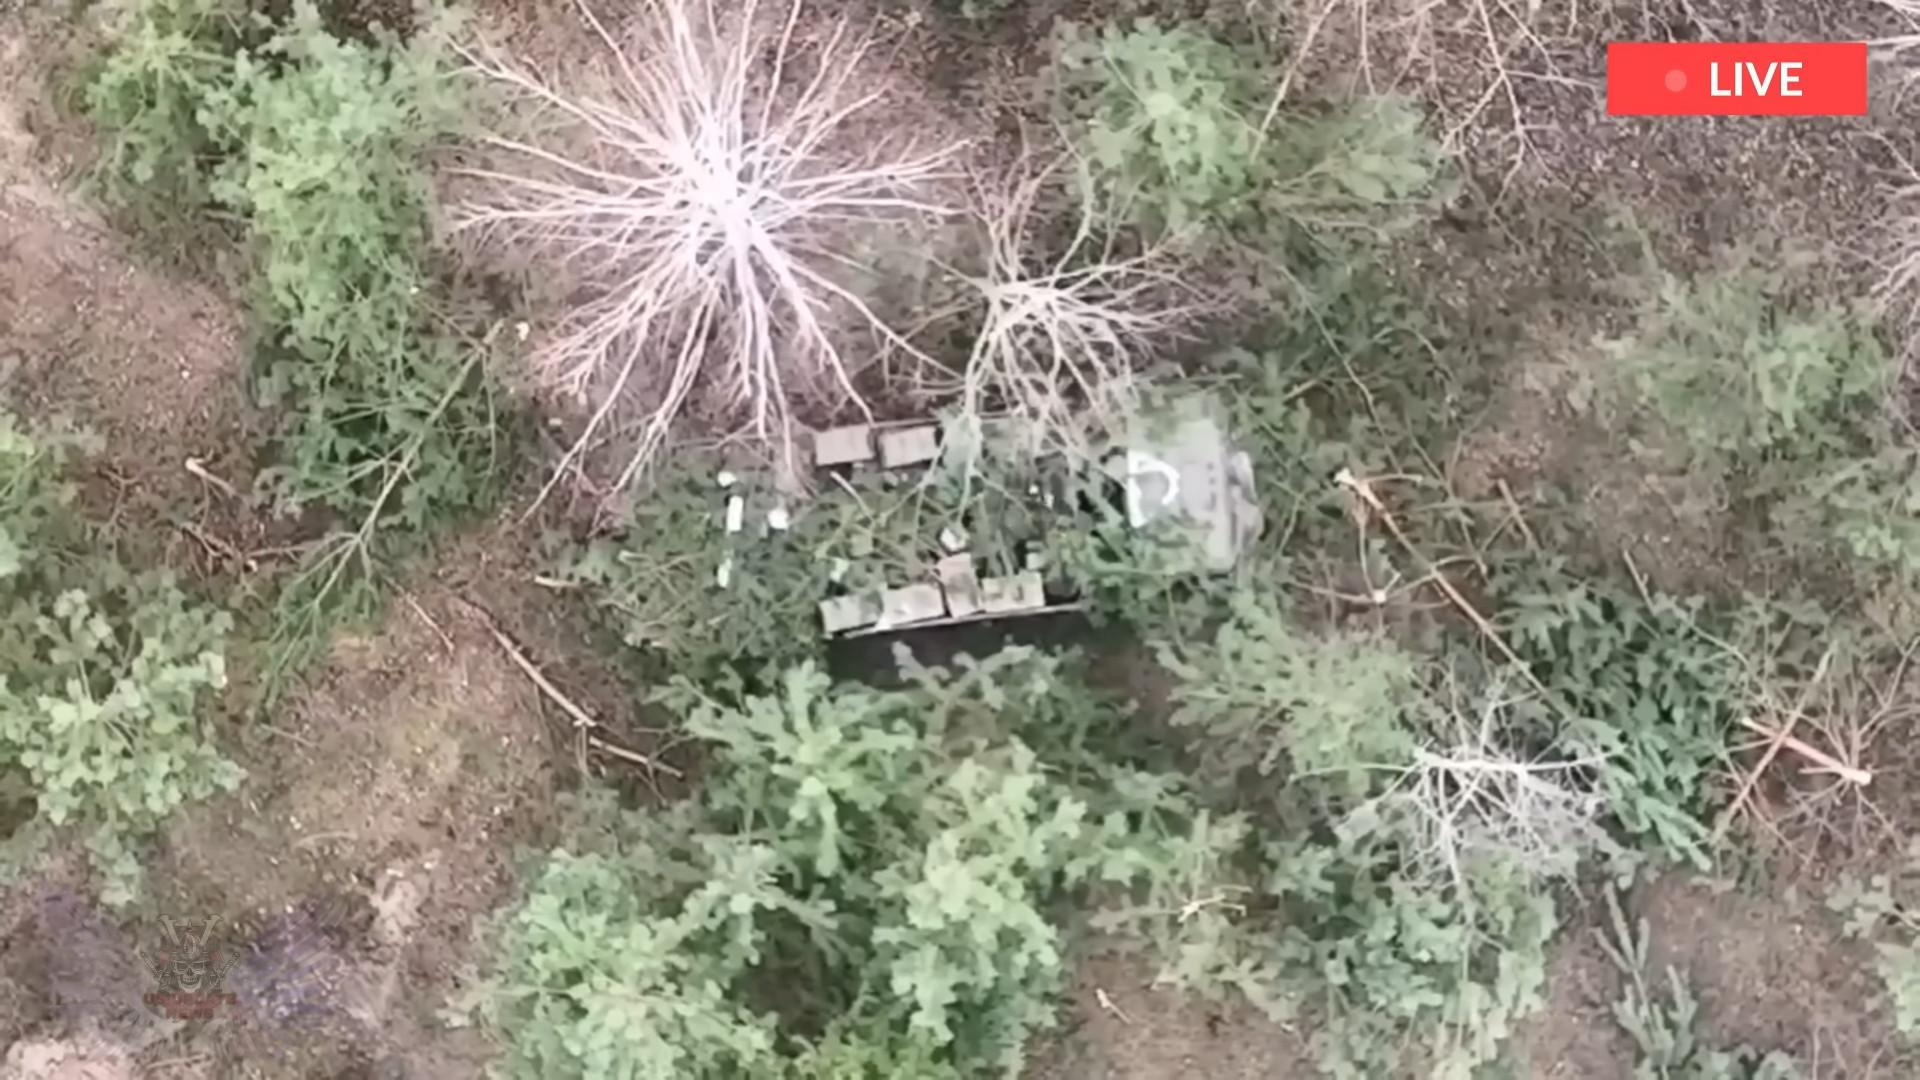tank: (708, 359, 1263, 651)
